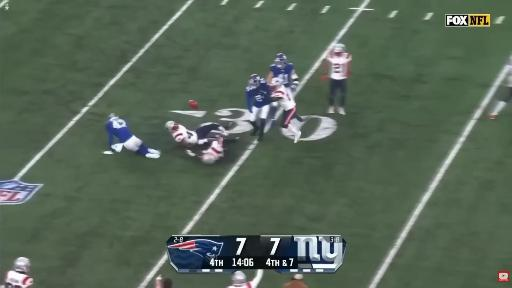Helmet: (13, 257, 31, 273), (232, 271, 246, 285), (275, 54, 286, 68), (333, 44, 345, 56), (248, 75, 260, 87), (270, 78, 282, 90), (202, 153, 215, 164), (166, 121, 178, 131), (108, 113, 119, 121)
Jersey: (246, 79, 271, 110), (106, 118, 133, 146), (327, 53, 351, 79), (228, 270, 262, 287), (270, 64, 294, 87), (273, 86, 295, 110), (172, 125, 197, 144), (5, 271, 33, 287), (203, 141, 223, 161)
Player: (106, 114, 160, 158), (321, 44, 351, 114), (270, 78, 302, 142), (246, 75, 272, 141), (166, 121, 227, 147), (266, 54, 299, 97), (186, 137, 235, 164), (267, 54, 299, 95), (490, 57, 511, 119), (5, 258, 33, 287), (228, 270, 263, 287), (156, 276, 172, 287)
